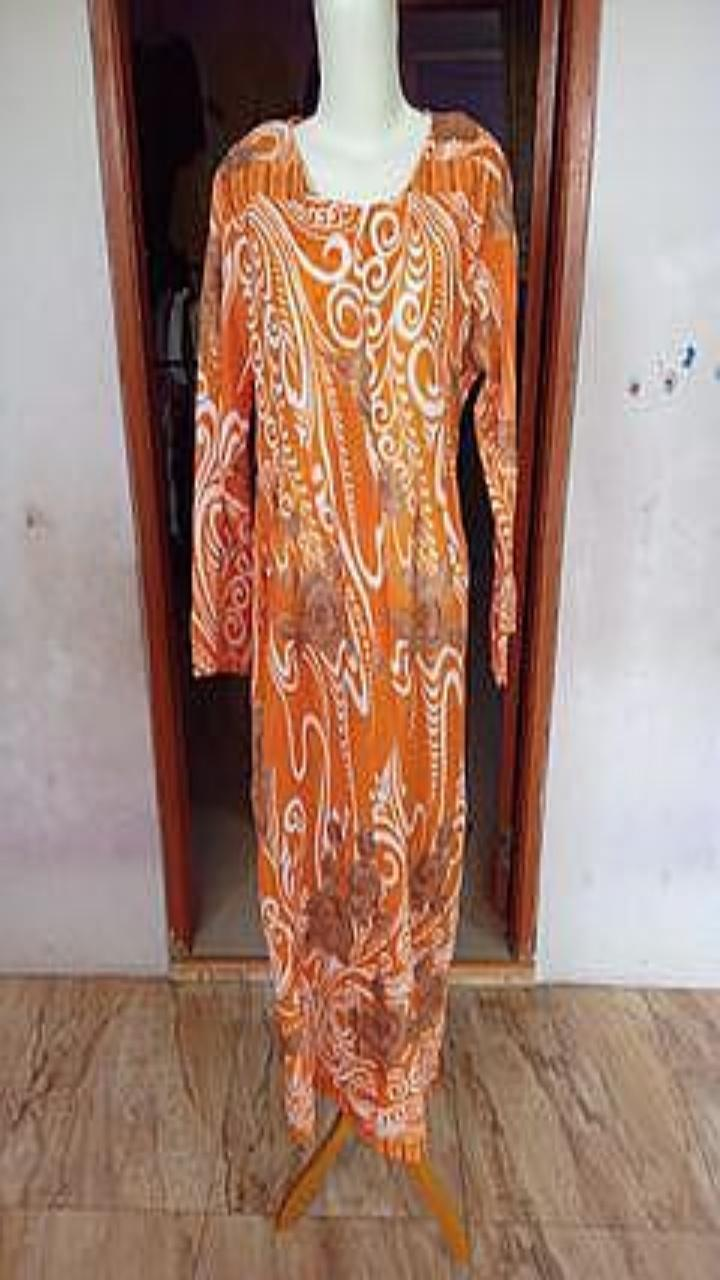Dresses: (191, 111, 516, 1159)
